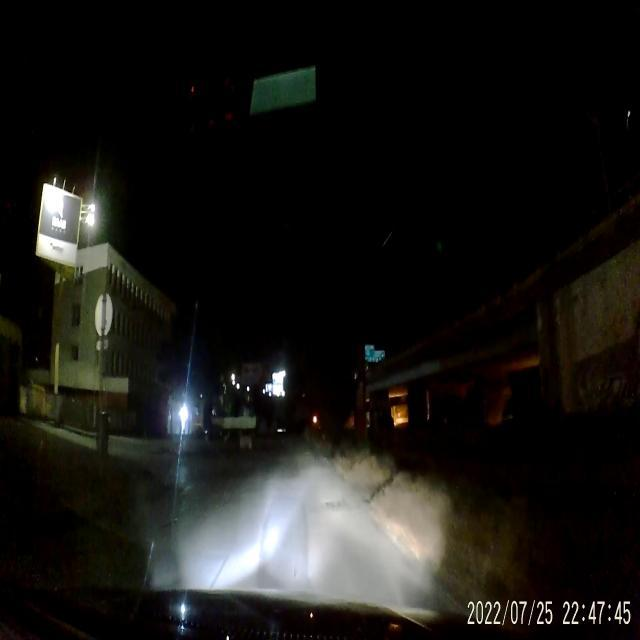Pothole: (324, 495, 352, 515)
